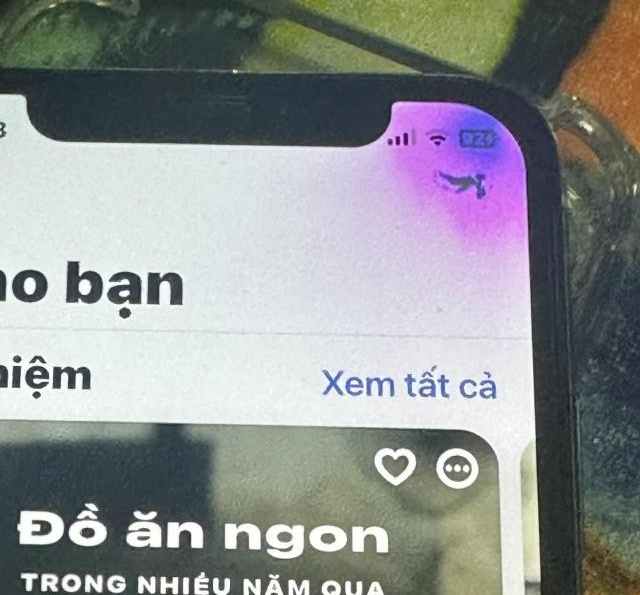screen_defect: (387, 81, 541, 263)
